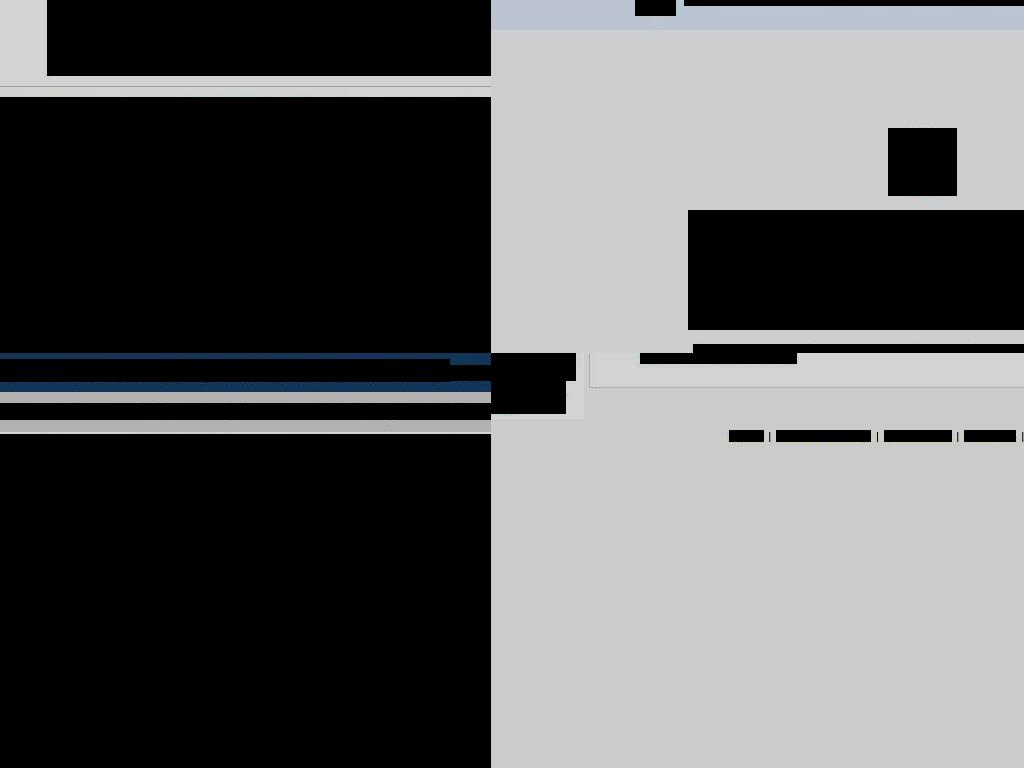button: (92, 434, 491, 768), (0, 97, 491, 353), (0, 434, 93, 639), (0, 638, 93, 768)
heading: (688, 210, 1024, 330)
iframe: (47, 0, 491, 76)
image: (92, 434, 491, 768), (0, 97, 491, 353), (0, 434, 93, 639), (0, 638, 93, 768), (888, 128, 957, 196), (635, 0, 676, 16)
link: (640, 353, 797, 364), (776, 430, 871, 442), (884, 430, 952, 442), (449, 365, 491, 381), (964, 430, 1016, 442), (360, 403, 393, 420), (729, 430, 764, 442)
text: (0, 359, 450, 382), (0, 403, 360, 420), (0, 602, 93, 639), (491, 381, 566, 414), (491, 353, 576, 381), (684, 0, 1024, 6), (391, 403, 491, 420), (491, 370, 561, 392), (491, 403, 514, 414), (491, 353, 531, 359), (531, 353, 557, 359)
